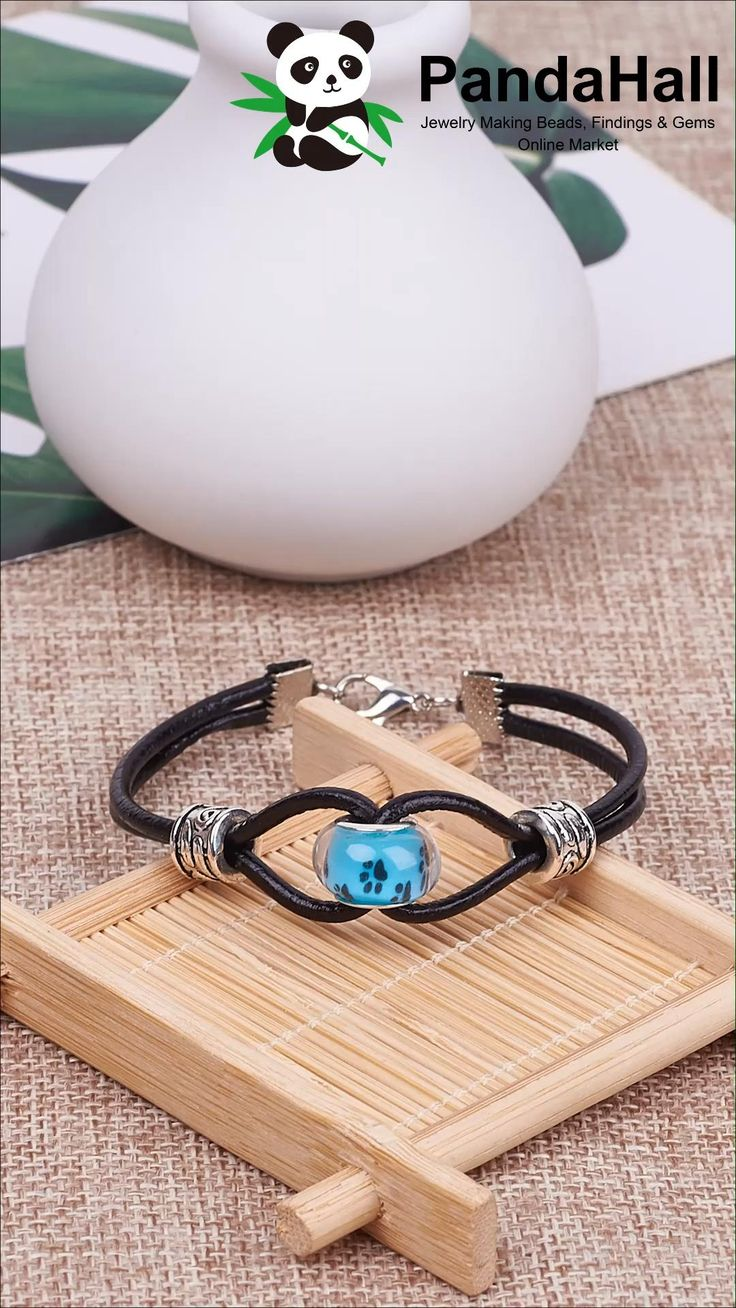cuero: (110, 660, 649, 926)
